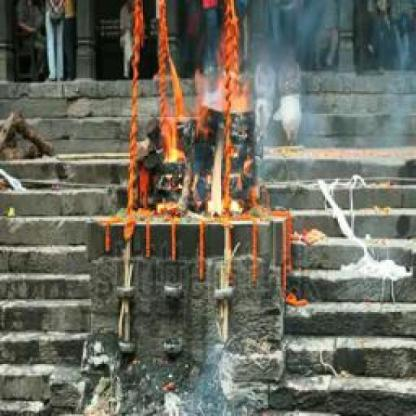fire: (155, 59, 240, 219)
